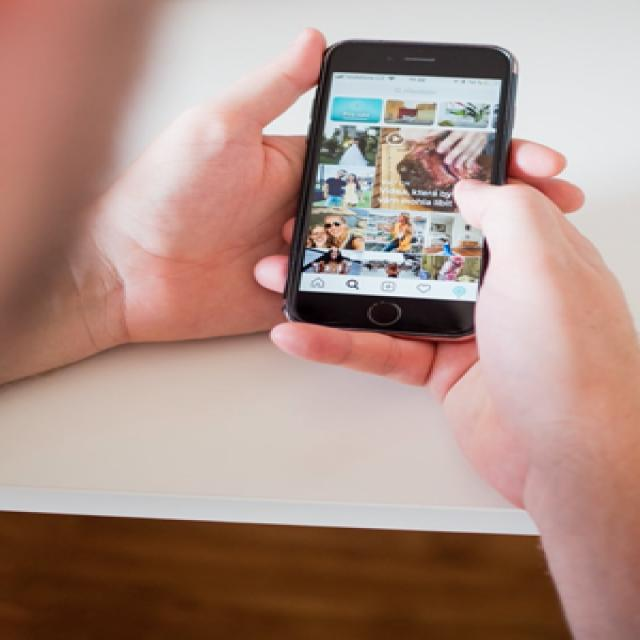cellphone: (282, 37, 518, 341)
